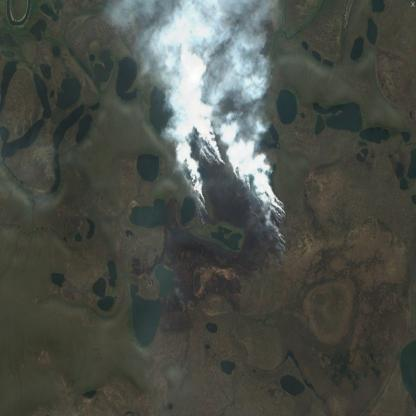fire: (183, 113, 291, 267)
